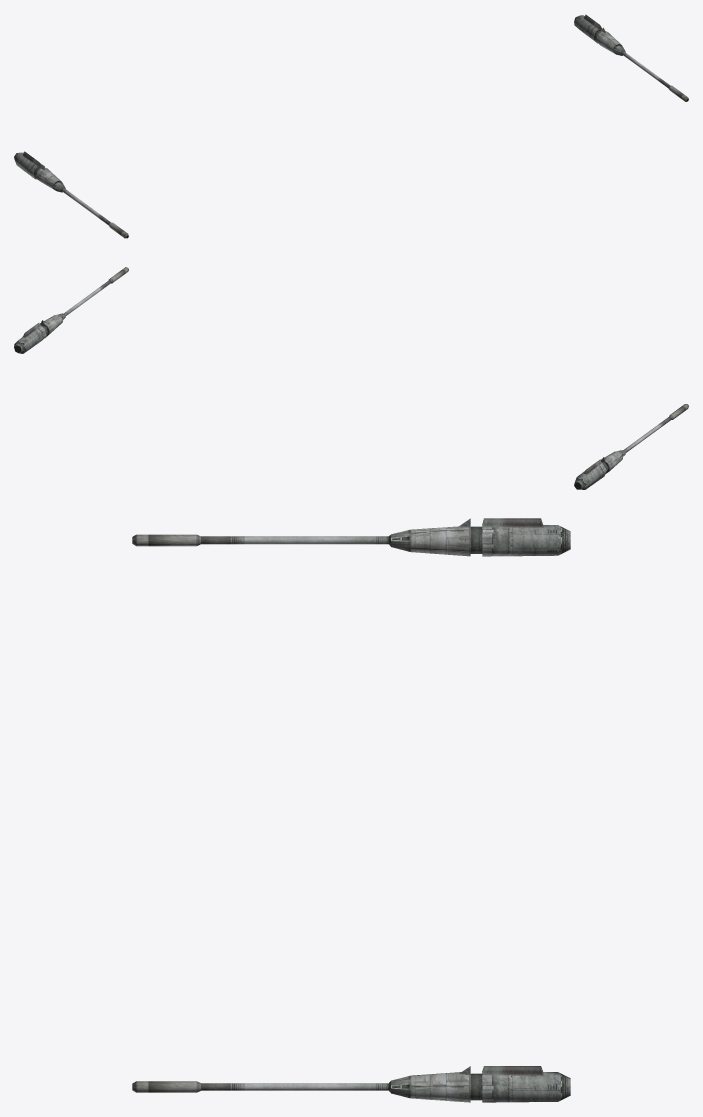
The model's file is hutt_fighter_heavy_weapon2_s05_l1.fbx.
3 views of the same model, one above another, from view 1: azimuth 30°, elevation 25°; view 2: azimuth 150°, elevation 25°; view 3: azimuth 270°, elevation 25° (orthographic). The views are drawn at different scales.
Visible parts, largest first — view 1: mesh_node; view 2: mesh_node; view 3: mesh_node.
Boxes of the visible parts, x1,y1,x2,y2 form: mesh_node: (14, 14, 688, 238); mesh_node: (14, 267, 688, 489); mesh_node: (132, 518, 570, 1102).
Size of the model in its own units: 26.62 by 0.7944 by 8.8.
1 material, 1 textured.
